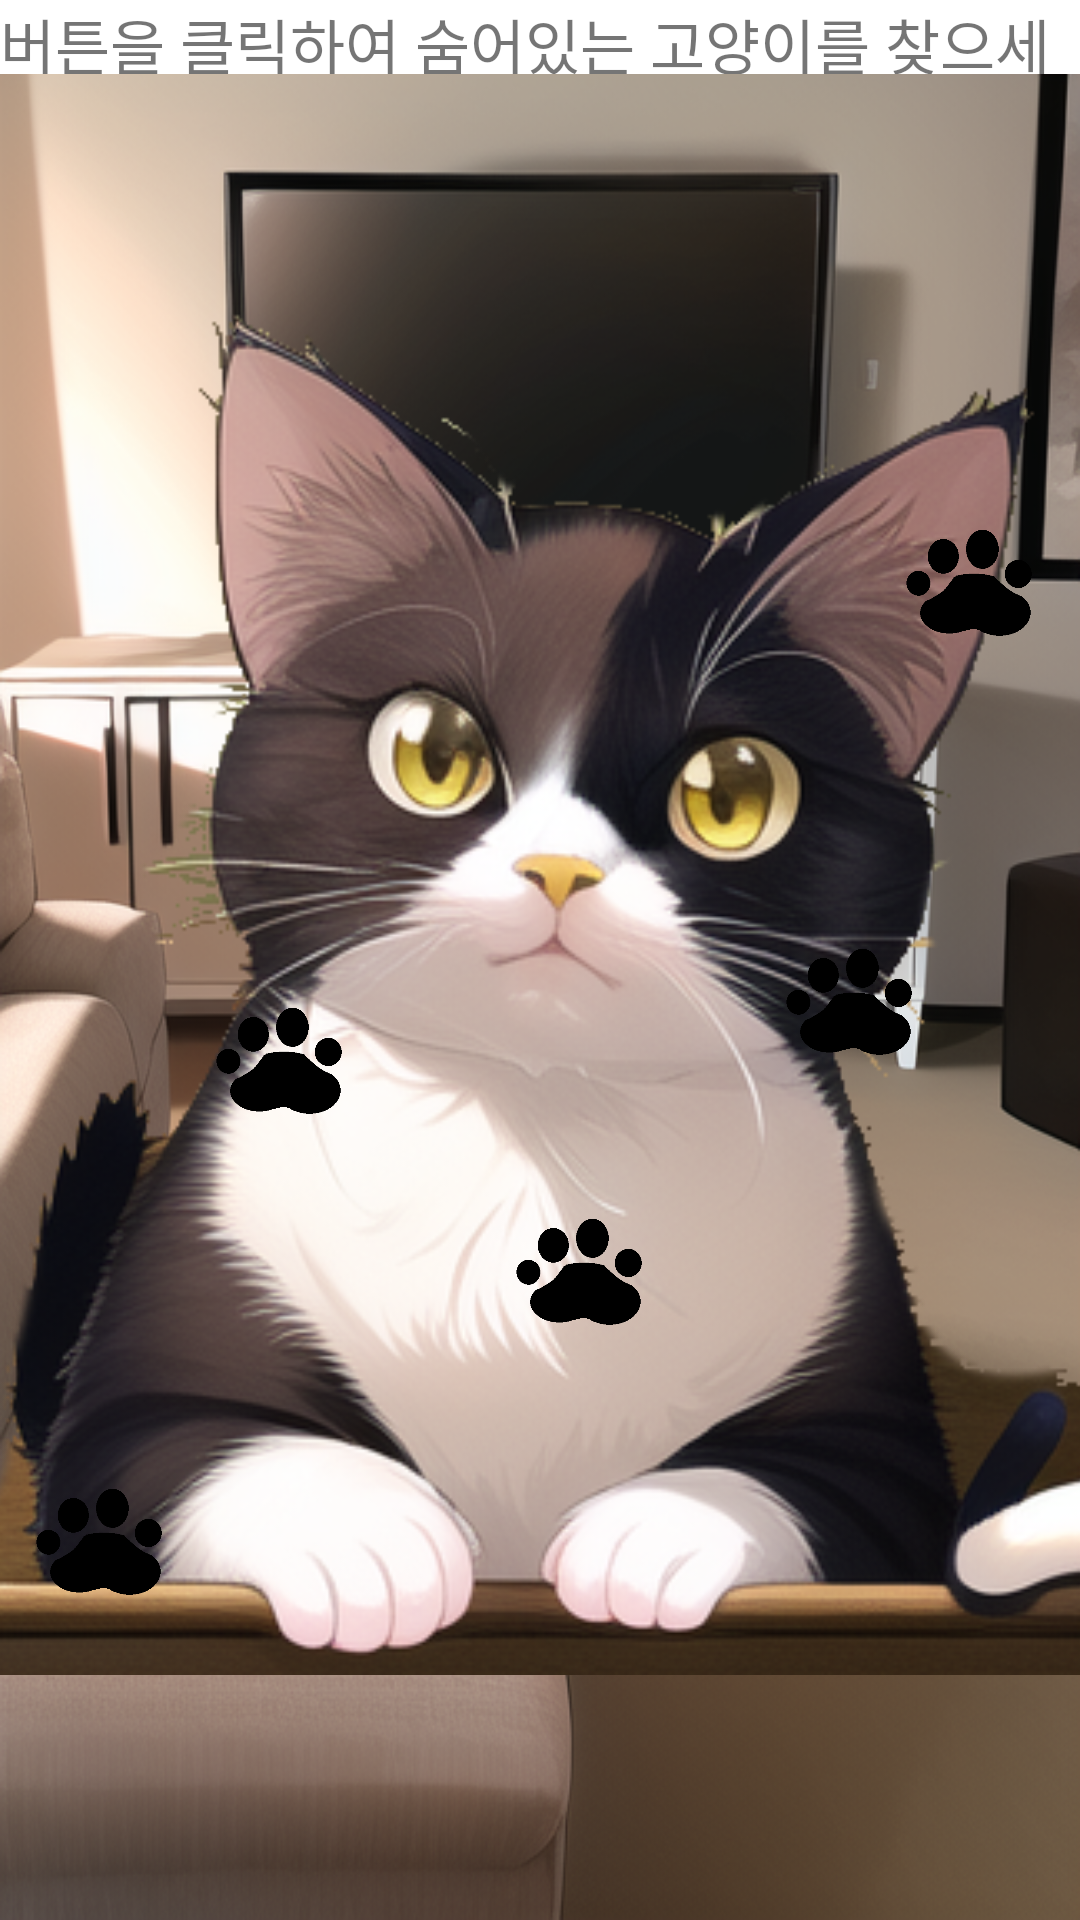

Point at icon controls on the screen. Image size 1080px x 1920px, points as point (x, y).
cathand: point (975, 556), point (855, 975), point (285, 1034), point (576, 1245), point (105, 1515)
